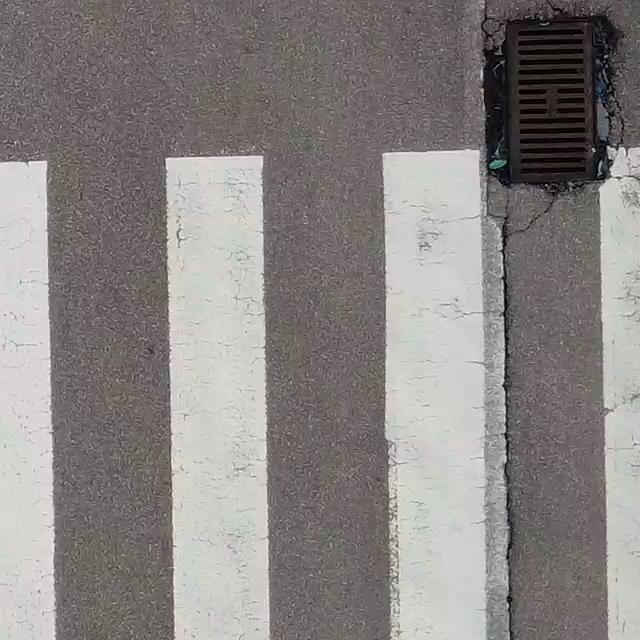GRIETA: (487, 204, 514, 639), (512, 193, 557, 235)
PIEL DE COCODRILO: (475, 0, 507, 54)
